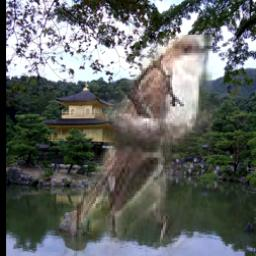Cuckoo: (45, 36, 214, 256)
